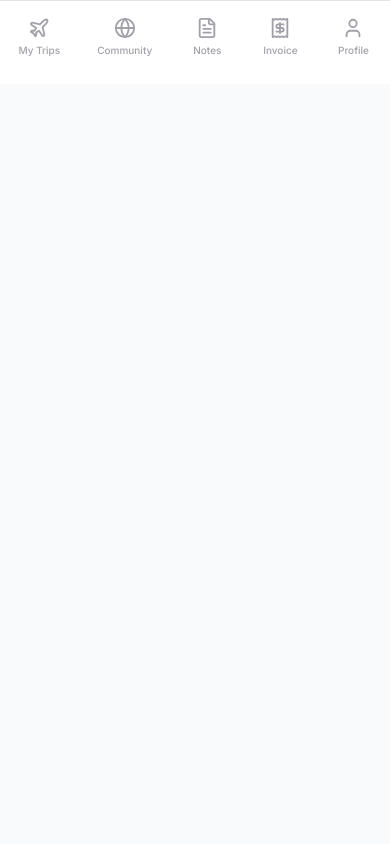
BottomNav › FE-COMP-BOTTOMNAV-009: backdrop click closes profile sheet
Click the button "Profile".
click(354, 38)  # box [324, 13, 384, 62]
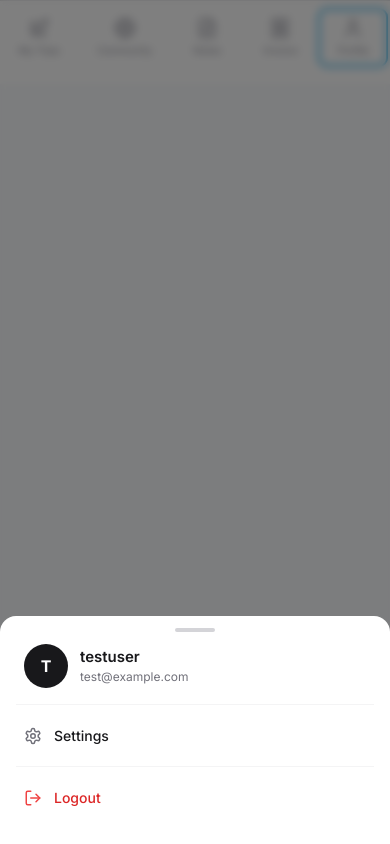
expect the text "testuser" is shown: met, box [80, 647, 140, 666]
expect the element with class "inset-0" that starts with "testuser" is shown: met
Click the element with class "inset-0" that starts with "testuser".
click(195, 422)  # box [0, 0, 389, 843]
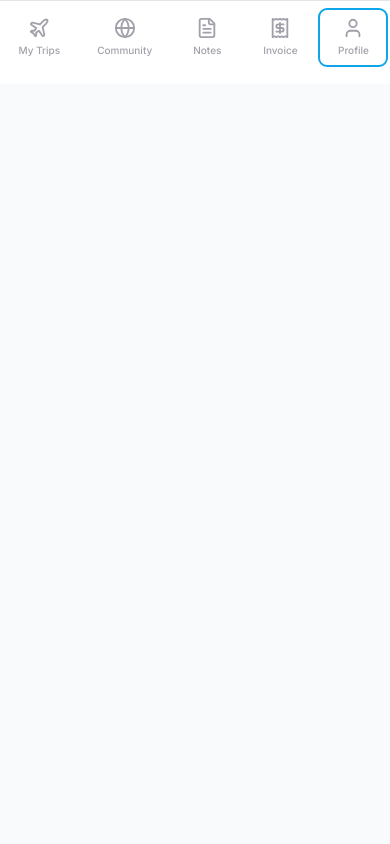
expect the text "testuser" is gone: met
